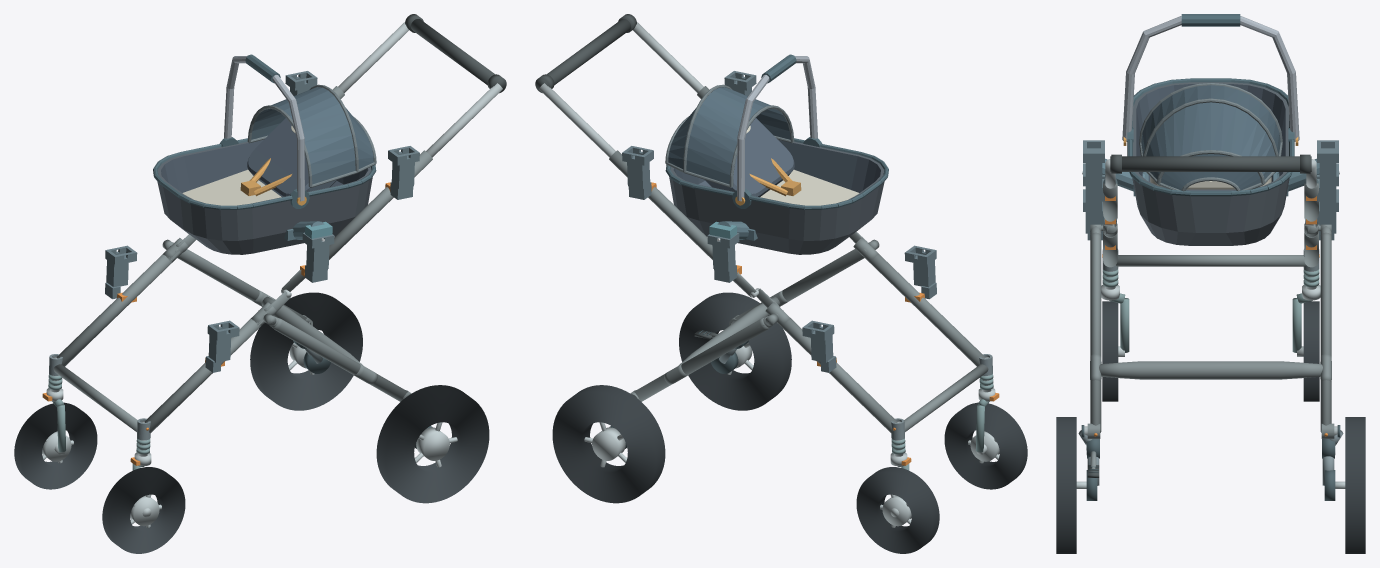
Rendered from S07_w550_state1_wheel_M.glb.
3 renders of one model, left to right at view 1: azimuth 30°, elevation 25°; view 2: azimuth 150°, elevation 25°; view 3: azimuth 270°, elevation 25°, orthographic. The views are drawn at different scales.
Visible parts, largest first — view 1: S07_Cabin, RL_tire.002, RR_tire.002, FL_tire.002, FR_tire.002, main_lower_1.003, V46_rear_leg_-1.003, main_lower_-1.003, round_handle.002, main_upper_-1.003, Universal_Cabin_Receiver_H_-1, V46_rear_leg_1.003 (+10 smaller); view 2: S07_Cabin, RR_tire.002, RL_tire.002, FR_tire.002, FL_tire.002, main_lower_-1.003, V46_rear_leg_1.003, main_lower_1.003, round_handle.002, main_upper_1.003, Universal_Cabin_Receiver_H_1, V46_rear_leg_-1.003 (+10 smaller); view 3: S07_Cabin, V46_rearbar.003, round_handle.002, RL_tire.002, RR_tire.002, front_fixed_round_tube.002, V46_rear_leg_1.003, V46_rear_leg_-1.003, FL_tire.002, FR_tire.002, Universal_Cabin_Receiver_H_1, Universal_Cabin_Receiver_H_-1 (+9 smaller).
Boxes of the visible parts, x1,y1,x2,y2 form: S07_Cabin: [153, 54, 376, 254]; RL_tire.002: [376, 385, 489, 503]; RR_tire.002: [250, 292, 362, 410]; FL_tire.002: [102, 467, 185, 553]; FR_tire.002: [14, 402, 97, 489]; main_lower_1.003: [56, 251, 180, 366]; V46_rear_leg_-1.003: [272, 318, 407, 401]; main_lower_-1.003: [144, 318, 263, 433]; round_handle.002: [411, 19, 505, 91]; main_upper_-1.003: [329, 150, 432, 259]; Universal_Cabin_Receiver_H_-1: [388, 146, 419, 199]; V46_rear_leg_1.003: [177, 249, 309, 322]; S07_Cabin: [665, 54, 888, 254]; RR_tire.002: [552, 385, 665, 503]; RL_tire.002: [679, 292, 791, 410]; FR_tire.002: [856, 467, 939, 553]; FL_tire.002: [944, 402, 1027, 489]; main_lower_-1.003: [861, 251, 985, 366]; V46_rear_leg_1.003: [634, 318, 769, 401]; main_lower_1.003: [778, 318, 897, 433]; round_handle.002: [536, 19, 630, 91]; main_upper_1.003: [609, 150, 712, 259]; Universal_Cabin_Receiver_H_1: [622, 146, 653, 199]; V46_rear_leg_-1.003: [732, 249, 864, 322]; S07_Cabin: [1122, 14, 1299, 245]; V46_rearbar.003: [1099, 361, 1322, 379]; round_handle.002: [1110, 156, 1311, 171]; RL_tire.002: [1056, 417, 1076, 553]; RR_tire.002: [1345, 417, 1365, 553]; front_fixed_round_tube.002: [1116, 255, 1305, 266]; V46_rear_leg_1.003: [1320, 232, 1331, 432]; V46_rear_leg_-1.003: [1090, 232, 1101, 432]; FL_tire.002: [1102, 301, 1118, 401]; FR_tire.002: [1303, 301, 1319, 401]; Universal_Cabin_Receiver_H_1: [1317, 140, 1338, 201]; Universal_Cabin_Receiver_H_-1: [1083, 140, 1104, 201].
Bounding box in the file's own units: 1.16 × 1.14 × 0.6771.
